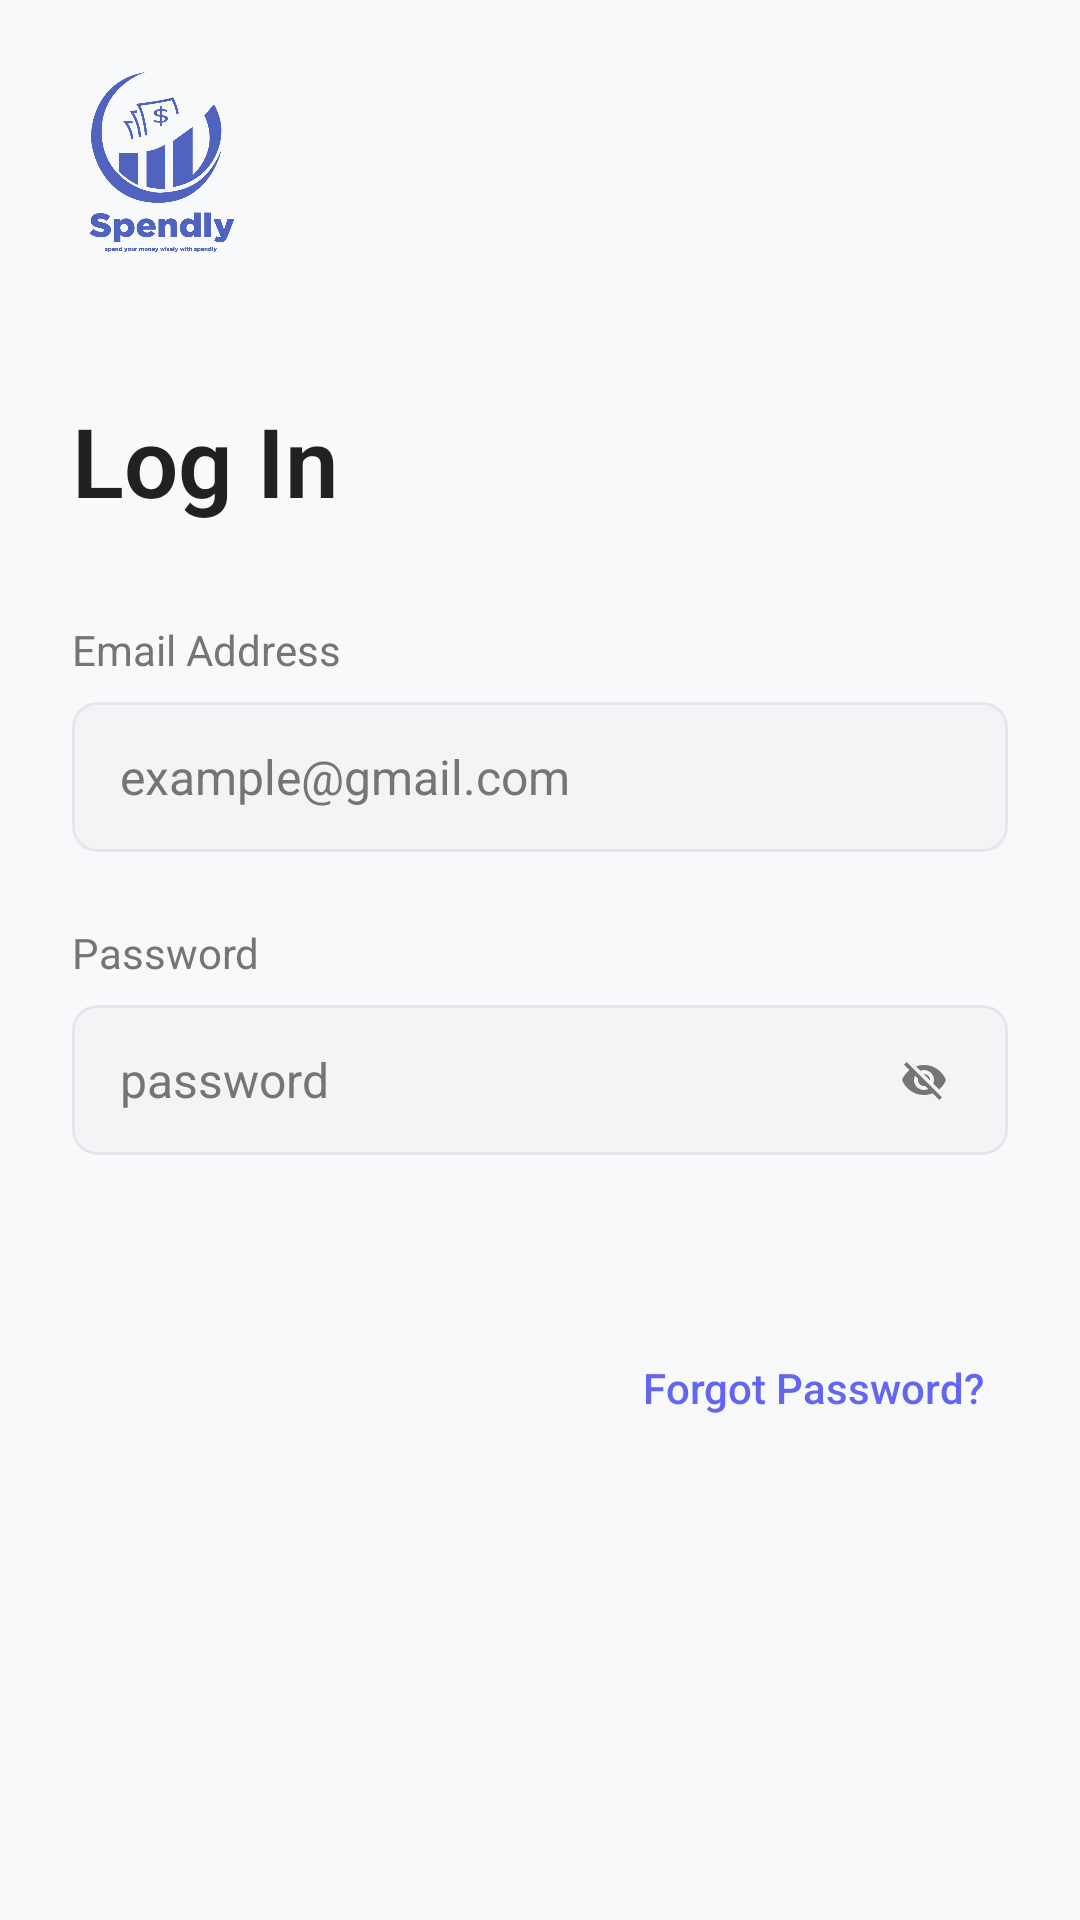

Point at icon controls on the screen. Image size 1080w x 1920h, points as (x,y).
visibility off: (924,1081)
